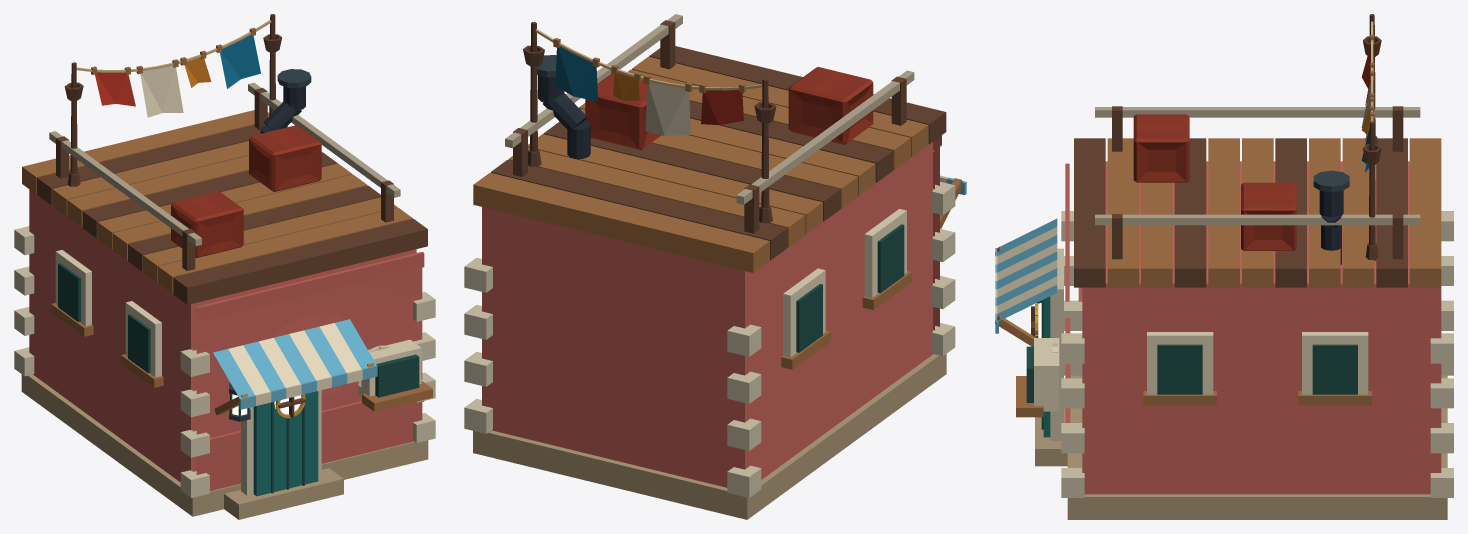
The model's file is net-loft-small-coral.glb.
3 views of the same model, side by side, from view 1: azimuth 30°, elevation 25°; view 2: azimuth 150°, elevation 25°; view 3: azimuth 270°, elevation 25° (orthographic). The views are drawn at different scales.
Parts seen in each view (by area): view 1: net-loft-small-coral; view 2: net-loft-small-coral; view 3: net-loft-small-coral.
Boxes of the visible parts, x1,y1,x2,y2 form: net-loft-small-coral: (14,14,435,519); net-loft-small-coral: (464,14,966,519); net-loft-small-coral: (995,14,1453,519).
Bounding box in the file's own units: 2.98 × 4.06 × 4.36.
